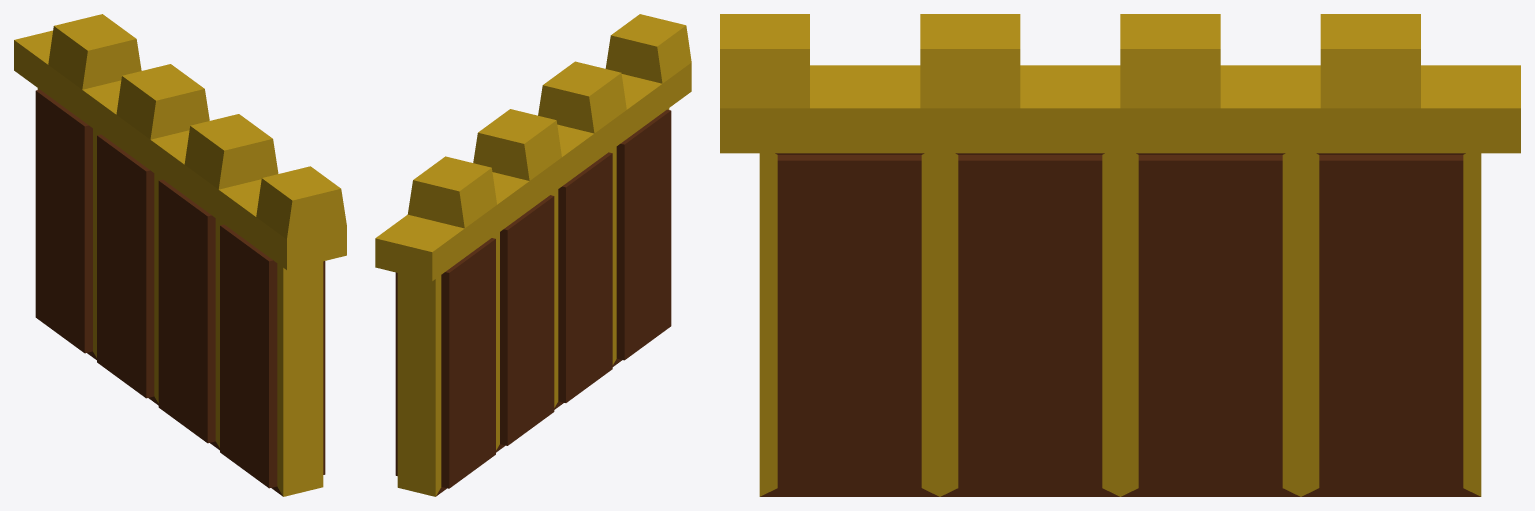
The model's file is wall_segment4.glb.
3 renders of one model, left to right at view 1: azimuth 30°, elevation 25°; view 2: azimuth 150°, elevation 25°; view 3: azimuth 270°, elevation 25°, orthographic. The views are drawn at different scales.
Visible parts, largest first — view 1: Cube.004; view 2: Cube.004; view 3: Cube.004.
Boxes of the visible parts, x1=… form: Cube.004: x1=14, y1=14, x2=346, y2=496; Cube.004: x1=375, y1=14, x2=691, y2=496; Cube.004: x1=720, y1=14, x2=1520, y2=496.
Size of the model in its own units: 0.2823 by 1.38 by 2.22.
